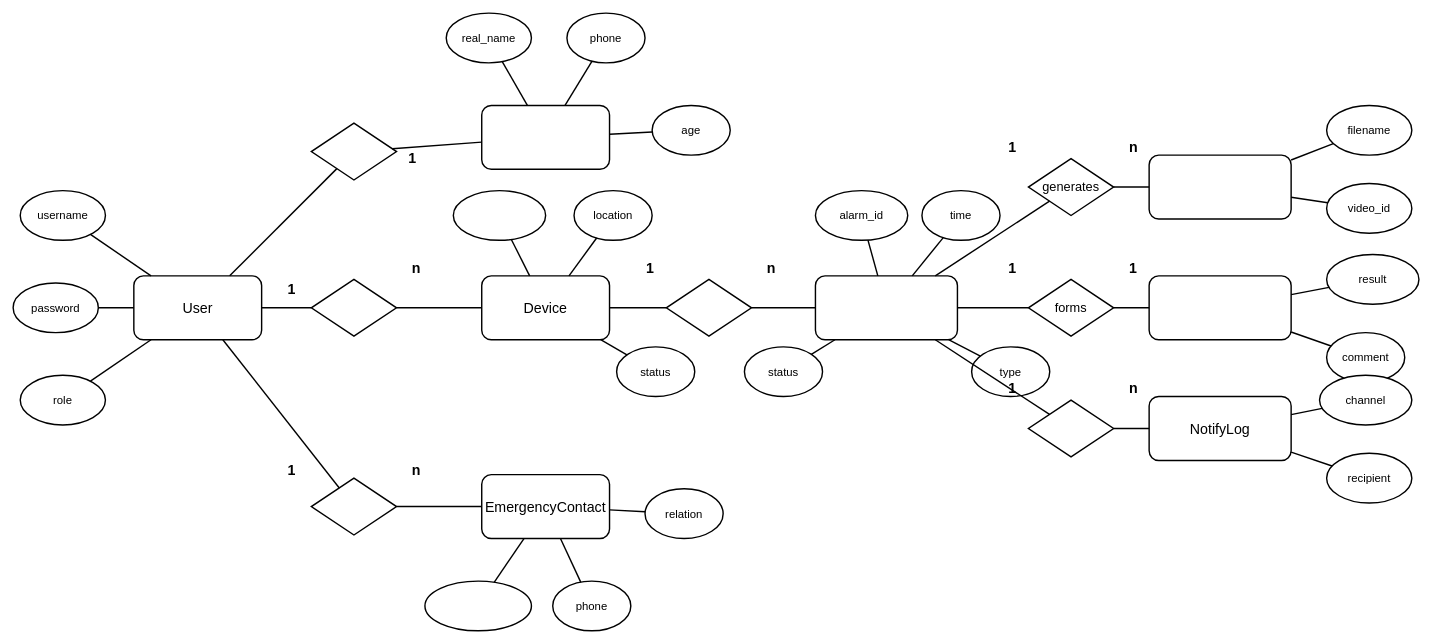
The diagram is 1431 pixels wide and 643 high, and some of its shapes have lost their labels. Each missing label, with the centre of its shape:
"Alarm" goes at (x=886, y=307).
"binds" goes at (x=353, y=506).
"contact_name" goes at (x=478, y=605).
"creates" goes at (x=1070, y=428).
"device_id" goes at (x=499, y=215).
"has" goes at (x=353, y=151).
"HistoryVideo" goes at (x=1219, y=186).
"Profile" goes at (x=545, y=137).
"triggers" goes at (x=708, y=307).
"uses" goes at (x=353, y=307).
"Workorder" goes at (x=1219, y=307).
